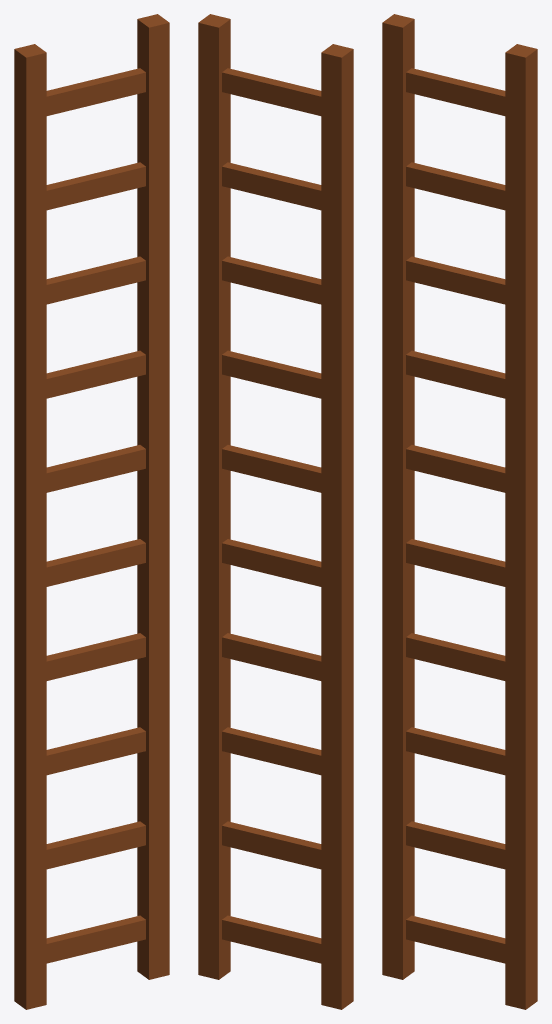
Rendered from ESCALERA.fbx.
3 views of the same model, side by side, from view 1: azimuth 30°, elevation 25°; view 2: azimuth 150°, elevation 25°; view 3: azimuth 330°, elevation 25° (orthographic).
Visible parts, largest first — view 1: escalera; view 2: escalera; view 3: escalera.
Part boxes in pixels (x1,y1,x2,y2): escalera: (14,14,169,1009); escalera: (198,14,353,1009); escalera: (382,14,537,1009).
Size of the model in its own units: 95.69 by 607 by 13.74.
